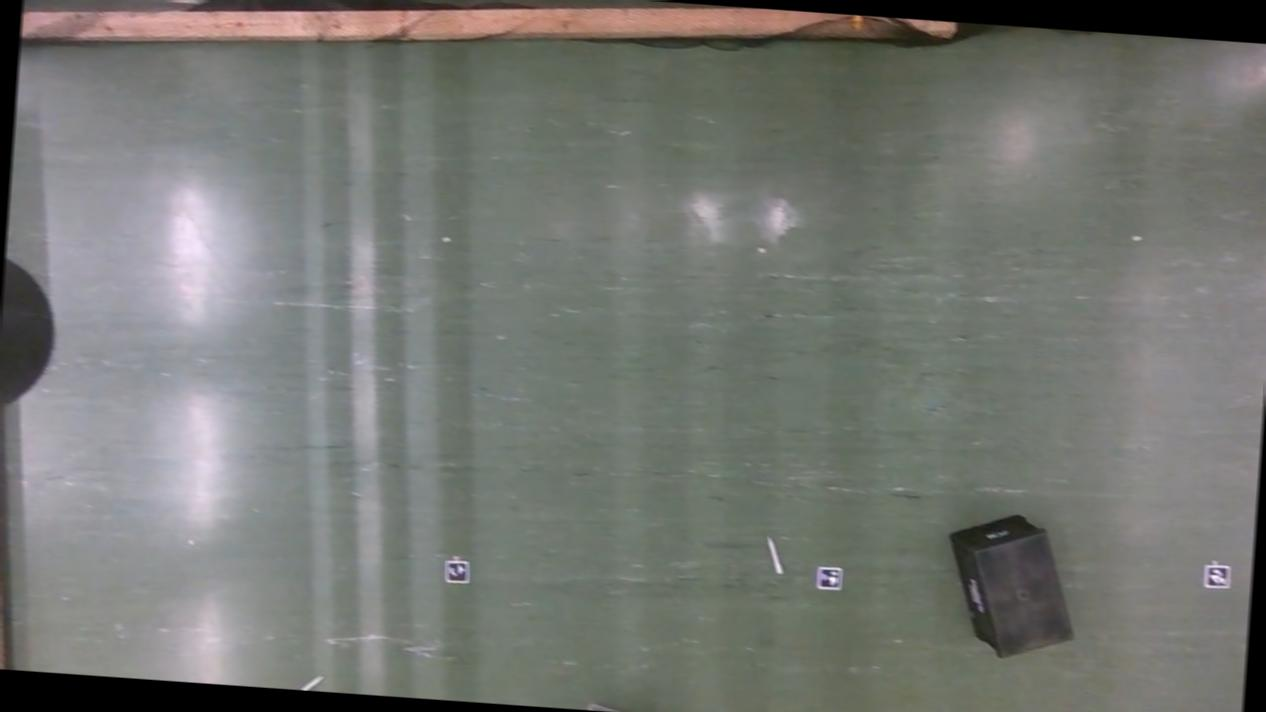probes: (763, 534, 784, 572), (300, 672, 324, 692)
rako: (940, 507, 1082, 661)
